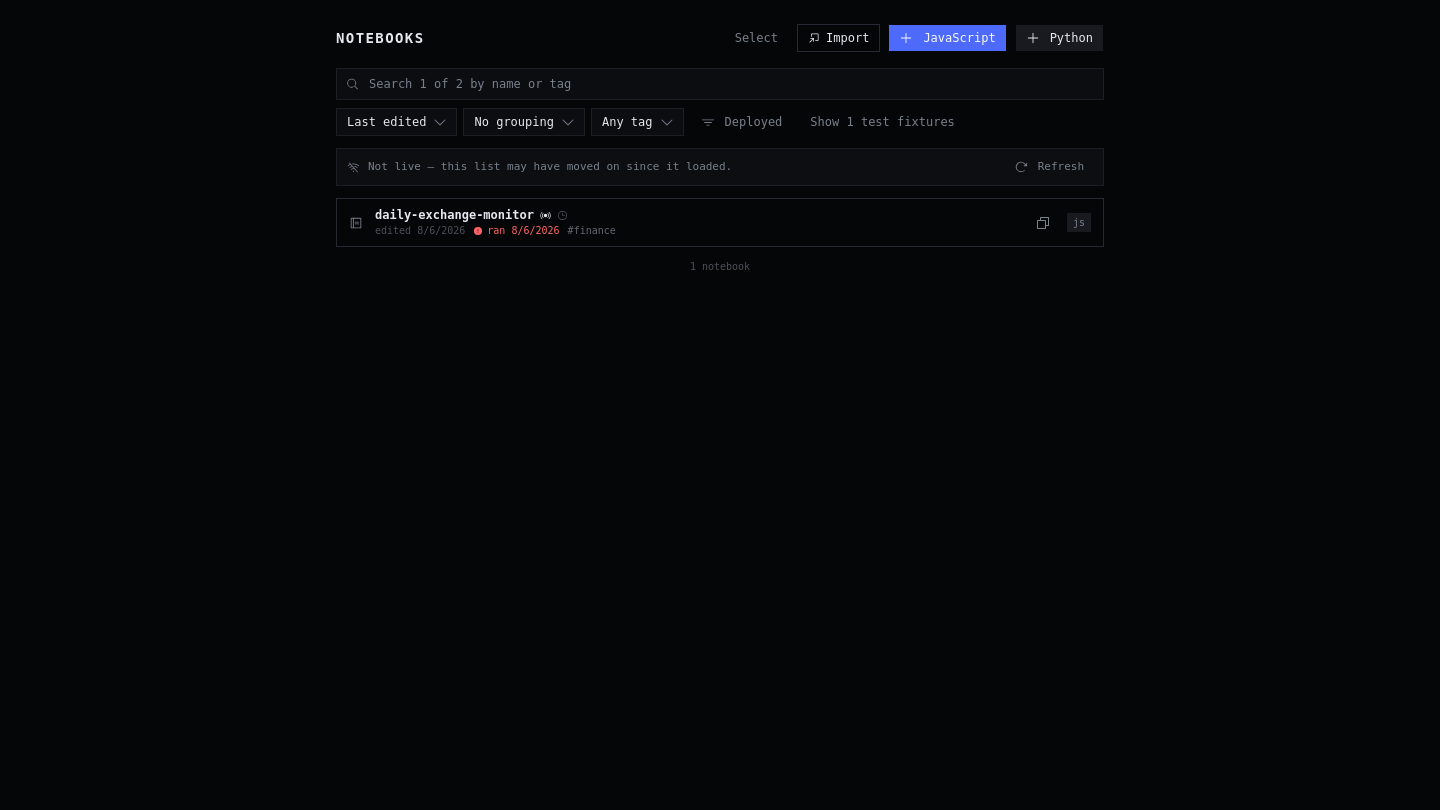
Test: selecting, which is how deleting starts now › asks first, and names what would go
Expected: the text "daily-exchange-monitor" is shown, [375,207,534,223]
Click the button "Show 1 test fixtures": (883, 122) [799,108,966,136]
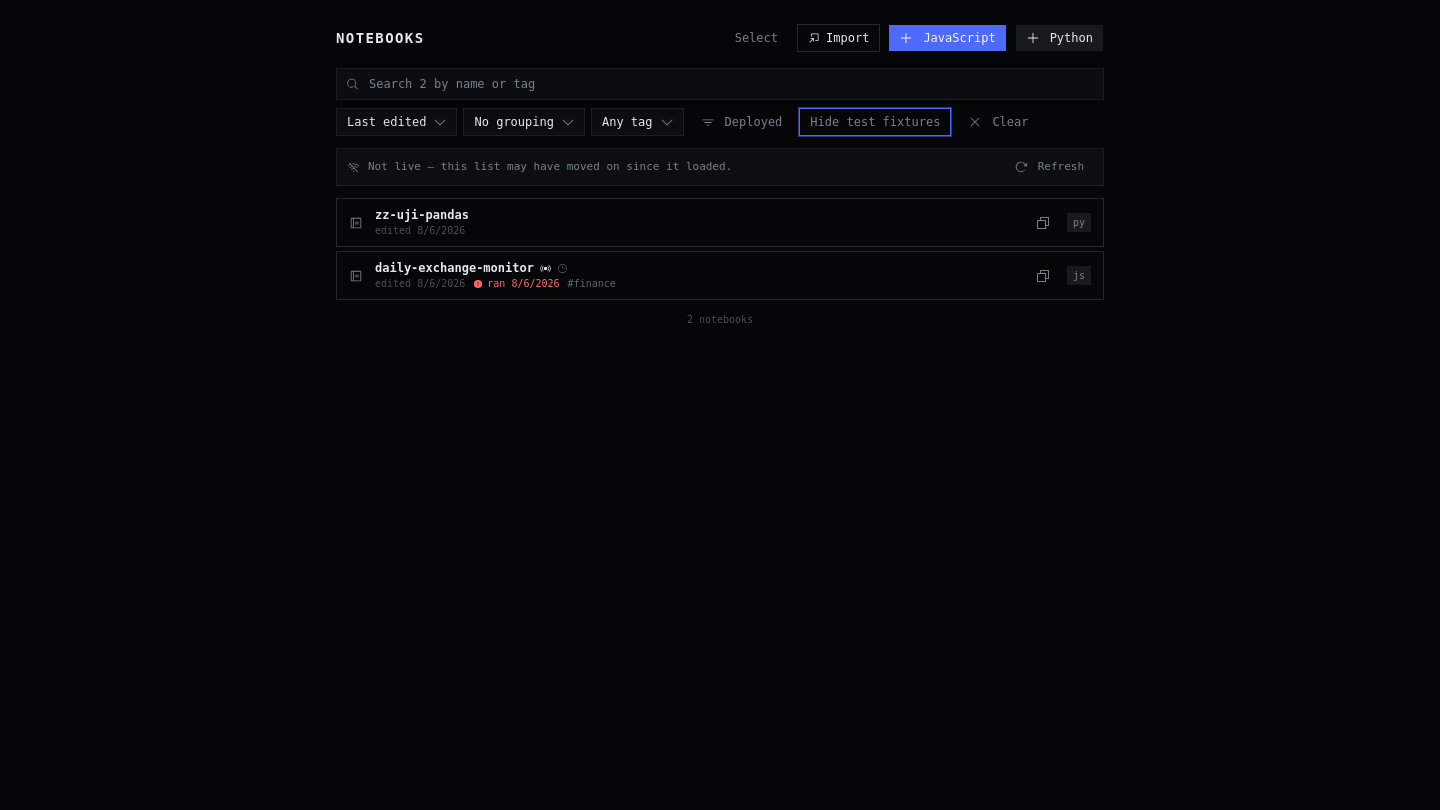
Click the button "Select": (756, 38) [724,24,789,52]
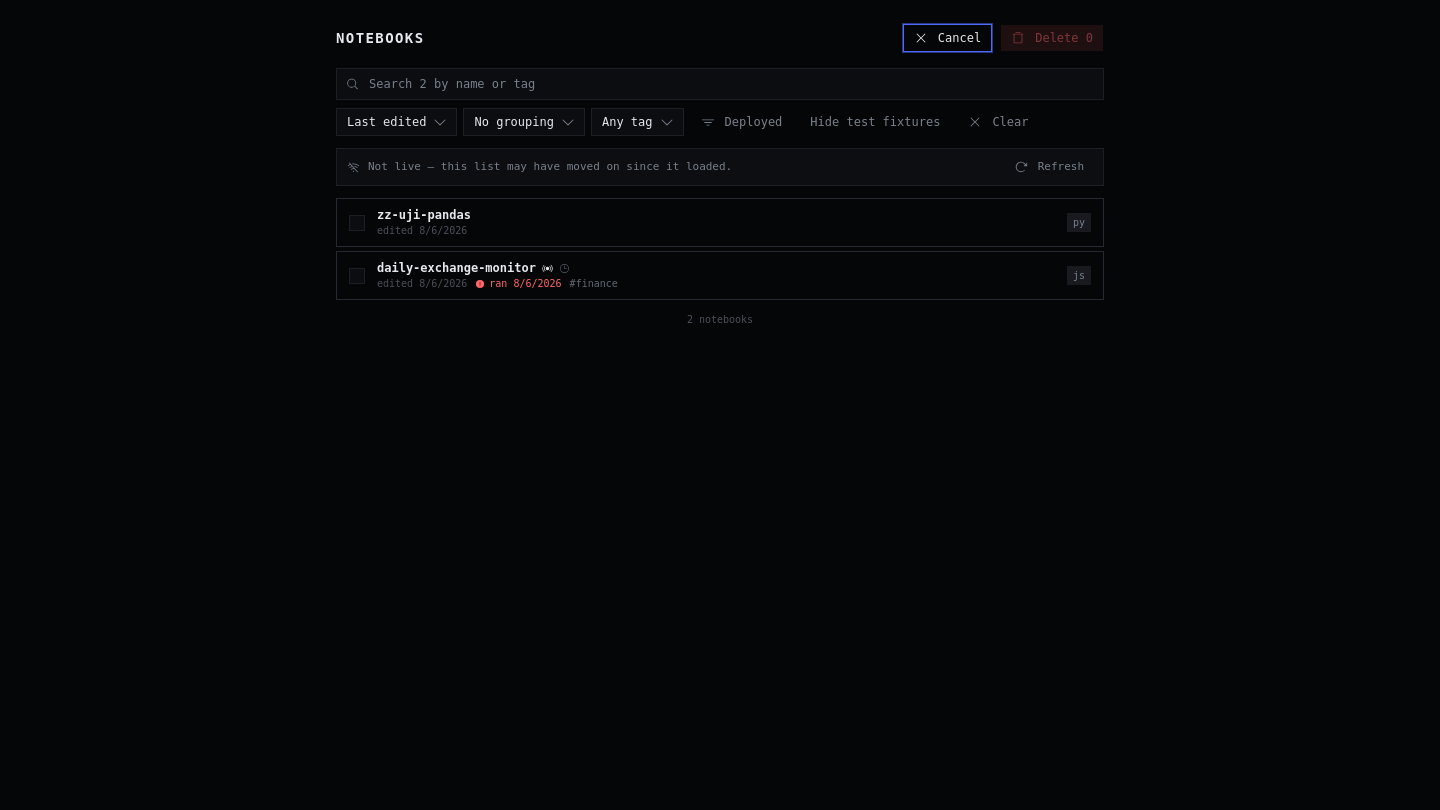
Click the text "zz-uji-pandas": (424, 215) [377,207,471,223]
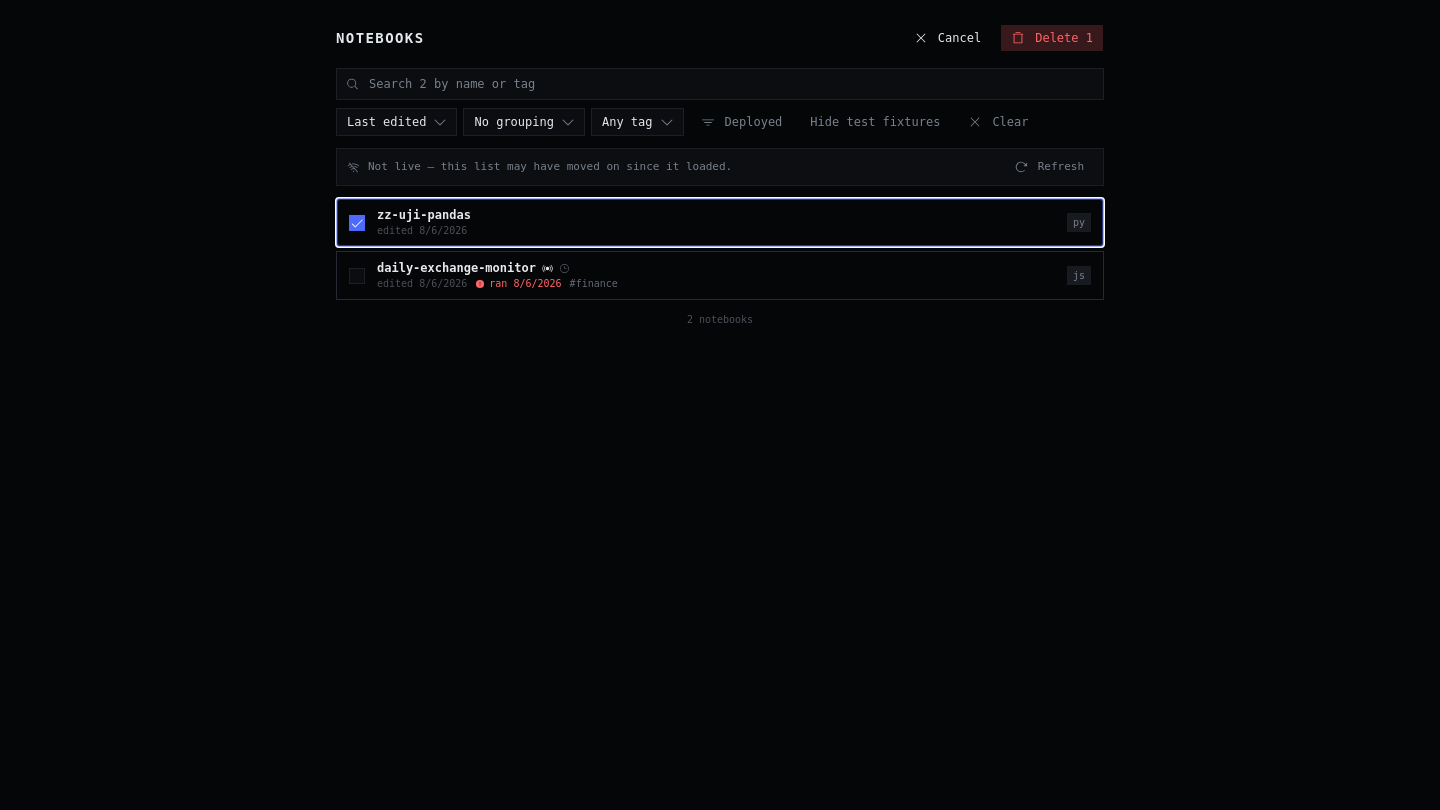
Click the button "Delete 1": (1052, 38) [1000,24,1104,52]
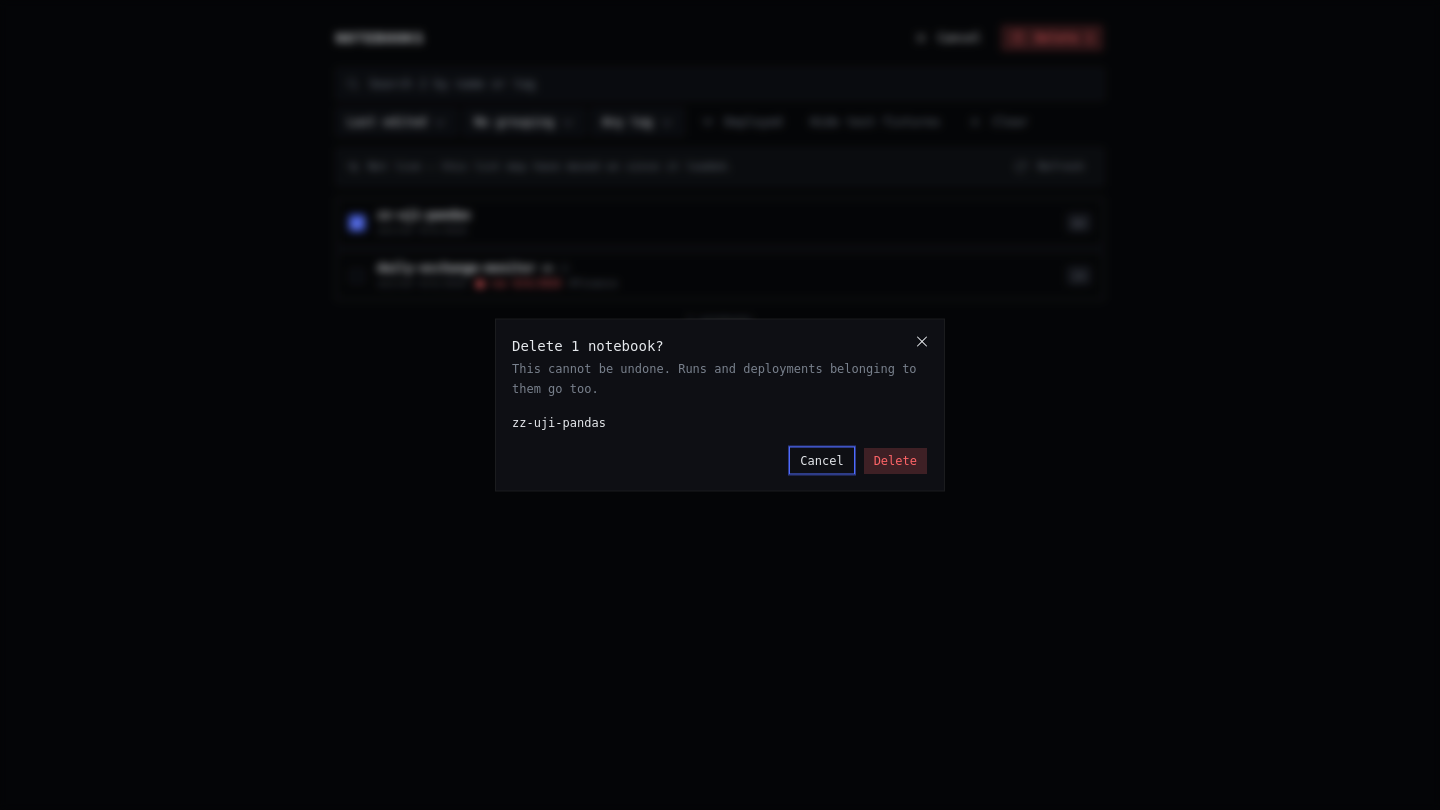
Expected: the heading "Delete 1 notebook?" is shown, [512,338,664,354]
Expected: the list item "zz-uji-pandas" is shown, [512,416,606,430]
Expected: the text "cannot be undone" is shown, [512,362,917,395]
